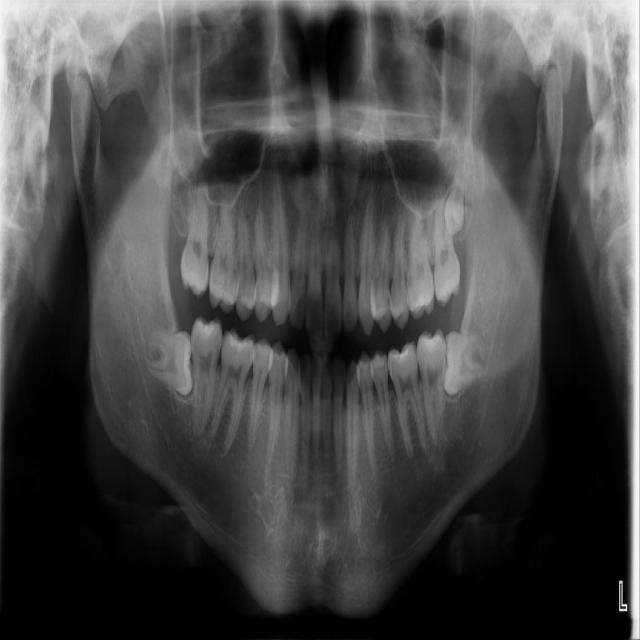52: (380, 340, 428, 387), (218, 330, 257, 385), (414, 327, 450, 373), (406, 265, 435, 319)
73: (570, 532, 578, 548)
BioHorizons Implant: (432, 186, 461, 308)
BioLife Implant: (444, 152, 466, 237)
Biomet 3i Implant: (441, 331, 489, 395)
Blue Sky Bio Implant: (415, 327, 452, 446)
Caries: (179, 181, 210, 300)
Implant: (187, 316, 223, 432)
Keystone Dental Implant: (146, 330, 194, 396)
